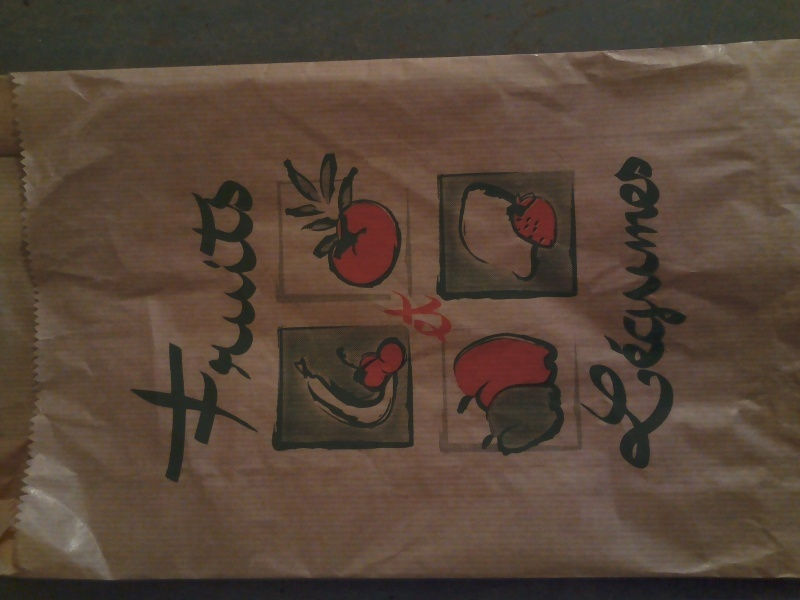text: (577, 146, 592, 474), (593, 146, 608, 474), (609, 146, 624, 474), (625, 146, 640, 474), (641, 146, 656, 474), (657, 146, 672, 474), (673, 146, 688, 474), (129, 176, 144, 488), (145, 176, 160, 488), (161, 176, 176, 488), (177, 176, 192, 488), (193, 176, 208, 488), (209, 176, 224, 488), (225, 176, 240, 488), (241, 176, 256, 488), (689, 146, 699, 474), (257, 176, 264, 488), (385, 286, 400, 344), (401, 286, 416, 344), (417, 286, 432, 344), (433, 286, 448, 344), (372, 286, 384, 344), (574, 146, 576, 474), (449, 286, 456, 344), (127, 176, 128, 488)
